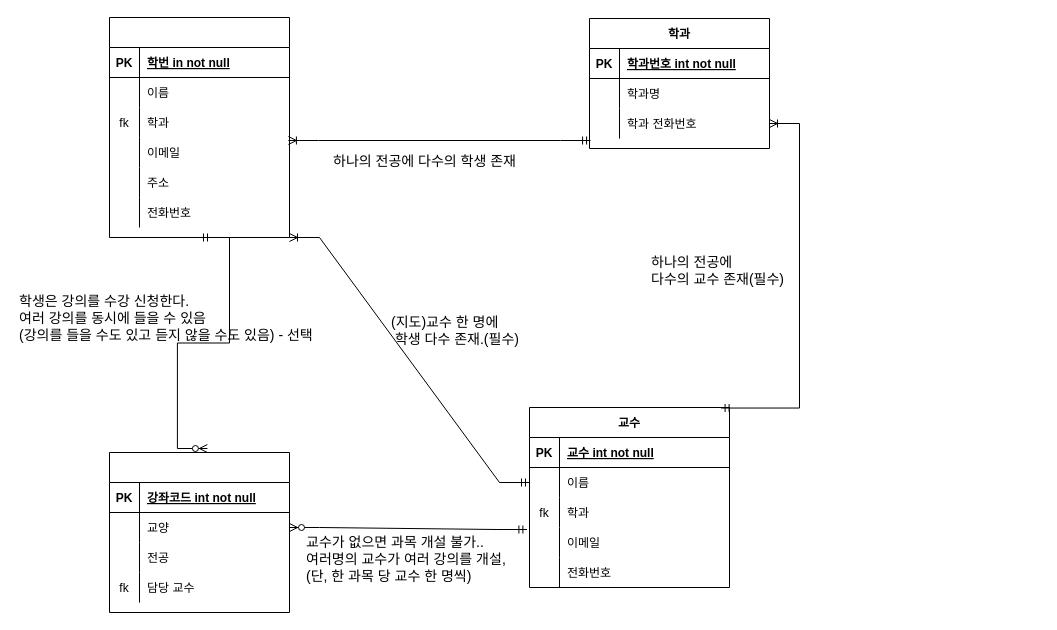
This 1057x630 diagram has some shape labels left out. Each missing label, with the box of its shape:
과목: (108, 452, 290, 612)
학생: (108, 16, 290, 238)
